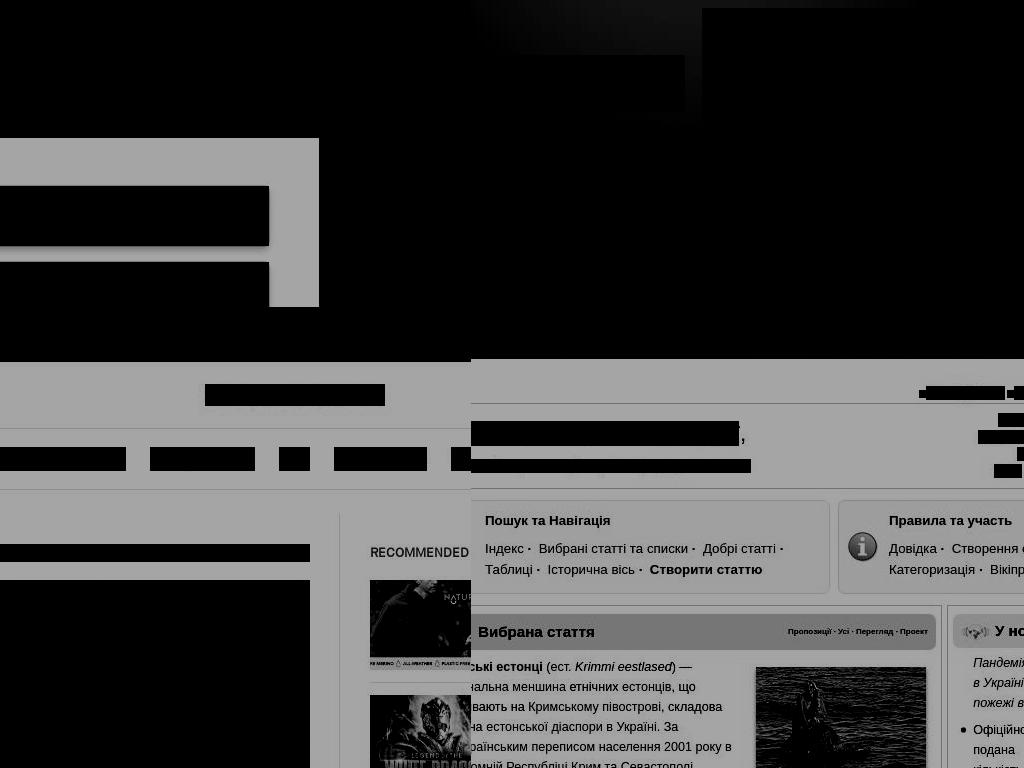button: (0, 580, 310, 768), (0, 186, 269, 246), (0, 262, 269, 307), (370, 580, 471, 670), (370, 695, 471, 768), (885, 319, 1024, 359), (205, 384, 385, 406), (471, 319, 567, 359), (0, 447, 126, 471), (811, 319, 886, 359), (150, 447, 255, 471), (753, 319, 812, 359), (334, 447, 427, 471), (279, 447, 310, 471), (451, 447, 471, 471)
field: (533, 295, 720, 307)
heading: (0, 0, 407, 138), (471, 200, 703, 276), (471, 55, 685, 113), (0, 544, 310, 562), (370, 544, 471, 562)
image: (702, 8, 1024, 307), (0, 580, 310, 768), (319, 0, 471, 307), (471, 307, 1024, 359), (756, 666, 926, 768), (370, 580, 471, 670), (370, 695, 471, 768), (205, 384, 385, 406), (846, 530, 879, 564), (229, 204, 253, 228), (961, 624, 991, 641), (229, 294, 253, 307), (919, 390, 927, 398), (1007, 390, 1015, 398)
link: (471, 739, 722, 754), (656, 421, 740, 446), (528, 699, 662, 714), (608, 459, 747, 473), (649, 561, 762, 577), (973, 676, 1024, 711), (486, 719, 604, 734), (471, 679, 566, 694), (538, 540, 626, 556), (547, 561, 635, 577), (889, 561, 975, 577), (702, 540, 776, 556), (471, 759, 601, 768), (951, 540, 1024, 556), (926, 386, 1005, 400), (471, 659, 543, 674), (549, 513, 612, 529), (889, 513, 946, 529), (485, 561, 533, 577), (889, 540, 937, 556), (621, 679, 672, 694), (973, 656, 1024, 671), (973, 676, 1024, 691), (967, 513, 1012, 529), (485, 513, 528, 529), (646, 540, 688, 556), (620, 759, 693, 768), (485, 540, 524, 556), (616, 719, 657, 734), (990, 561, 1024, 577), (788, 627, 831, 637), (994, 464, 1023, 478), (855, 627, 893, 637), (550, 659, 573, 674), (900, 627, 929, 637), (838, 627, 850, 637)
text: (39, 307, 471, 338), (471, 699, 722, 734), (471, 679, 695, 714), (0, 278, 213, 307), (471, 421, 657, 446), (478, 623, 681, 641), (973, 722, 1024, 768), (471, 459, 608, 473), (0, 202, 54, 230), (575, 659, 673, 674), (566, 679, 623, 694), (978, 430, 1024, 444), (995, 622, 1024, 640), (946, 513, 969, 529), (998, 413, 1024, 427), (527, 513, 549, 529), (626, 540, 648, 556), (656, 719, 678, 734), (671, 659, 692, 674), (602, 719, 617, 734), (601, 759, 622, 768), (739, 421, 746, 446), (721, 739, 732, 754), (542, 659, 550, 674), (536, 561, 541, 577), (978, 561, 983, 577), (831, 627, 839, 637), (849, 627, 857, 637), (893, 627, 901, 637), (746, 459, 751, 473), (527, 540, 531, 556), (691, 540, 695, 556), (779, 540, 783, 556), (638, 561, 642, 577), (940, 540, 944, 556)
